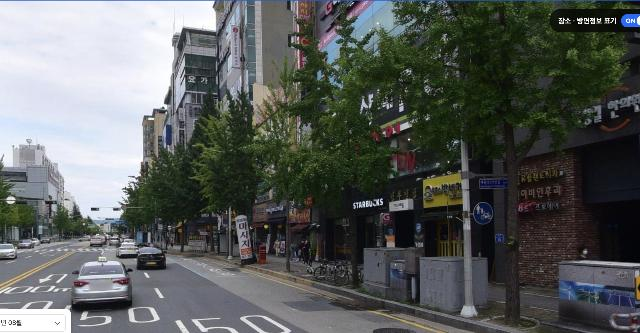other: (331, 0, 640, 326), (415, 0, 614, 333), (267, 13, 414, 289), (226, 49, 335, 273), (165, 73, 269, 260), (120, 120, 208, 253), (0, 169, 28, 242), (51, 197, 75, 242), (69, 206, 83, 242)
